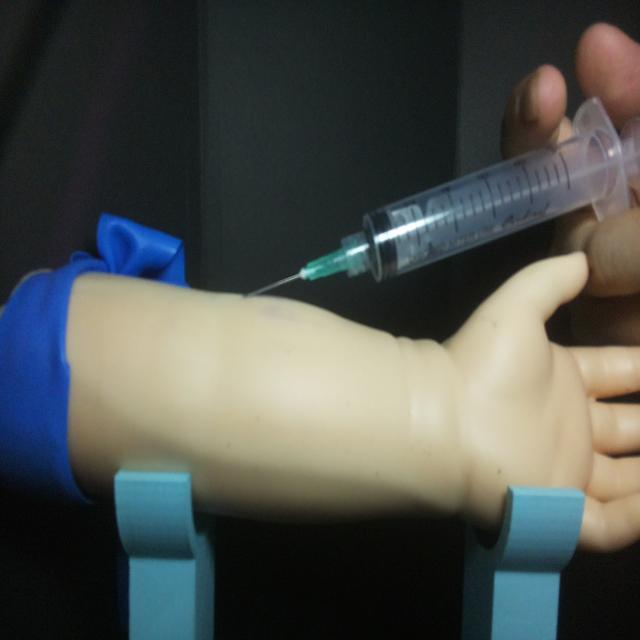20deg: (240, 94, 635, 302)
